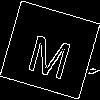M: (25, 25, 77, 81)
